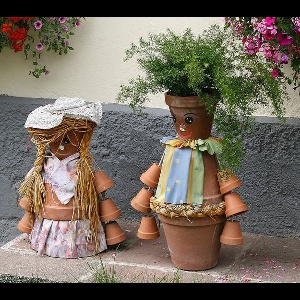flowerpot: (163, 85, 222, 144)
